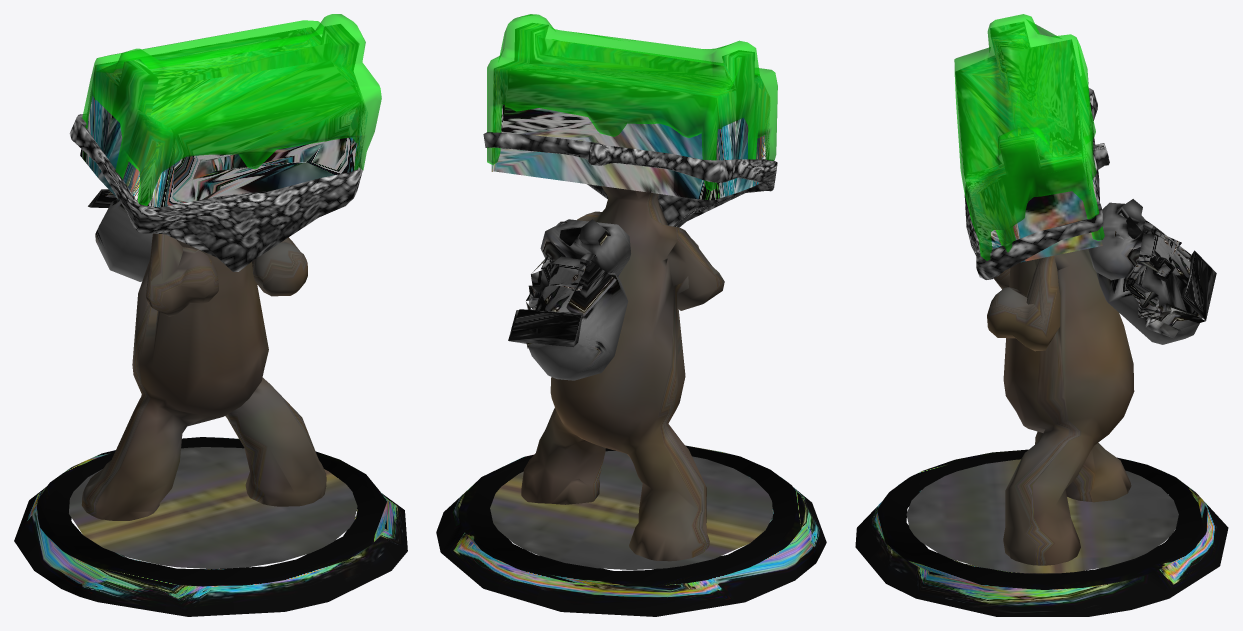
3 views of the same model, side by side, from view 1: azimuth 30°, elevation 25°; view 2: azimuth 150°, elevation 25°; view 3: azimuth 270°, elevation 25° (orthographic). The views are drawn at different scales.
Bounding box in the file's own units: 1.42 × 2.05 × 1.44.
7 materials, 6 textured.
